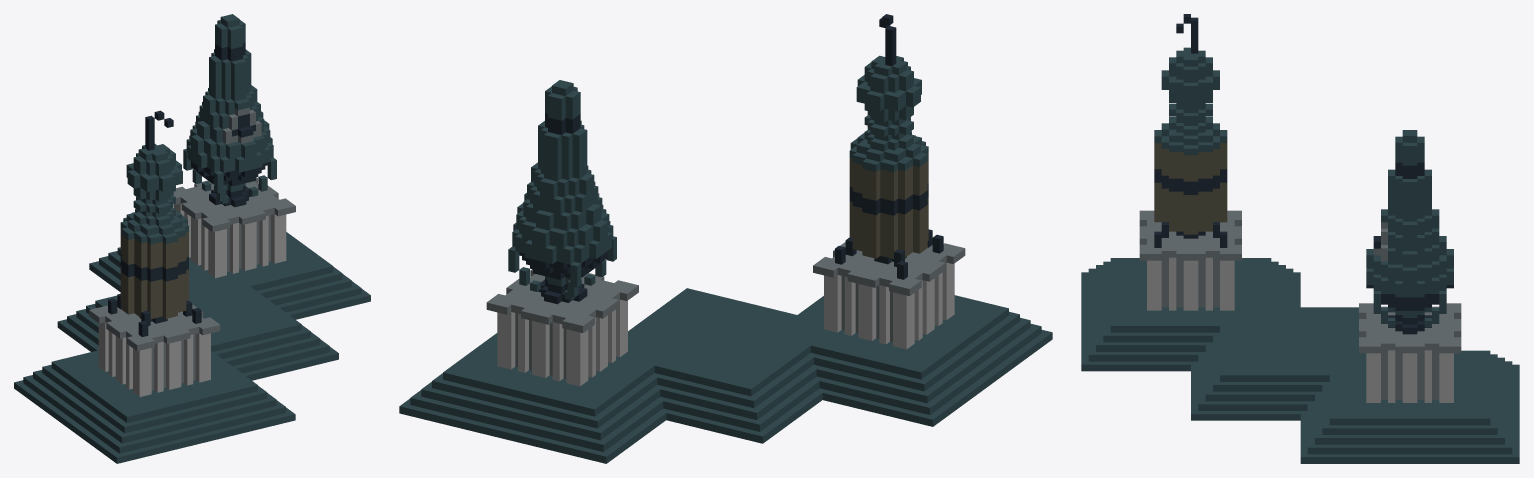
The model's file is capsule_statue_overtile.obj.
3 renders of one model, left to right at view 1: azimuth 30°, elevation 25°; view 2: azimuth 150°, elevation 25°; view 3: azimuth 270°, elevation 25°, orthographic. The views are drawn at different scales.
Bounding box in the file's own units: 6 × 4.7 × 6.
1 material, 1 textured.
